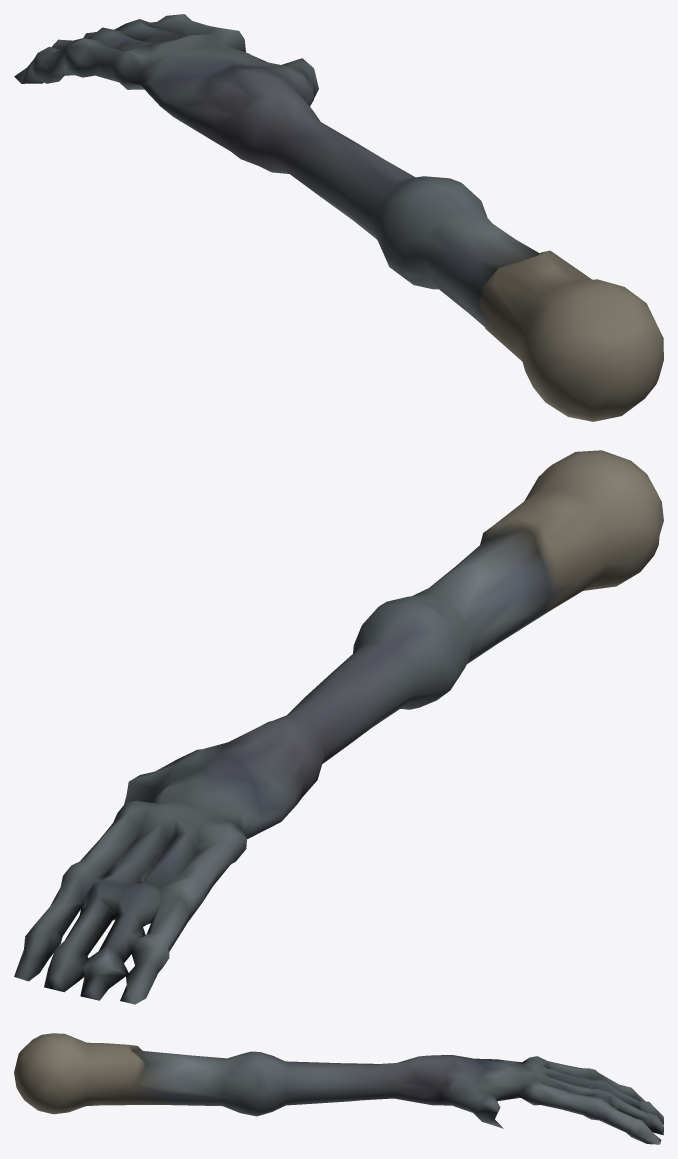
Rendered from bed_arm.glb.
The picture shows the model from 3 angles, top to bottom: view 1: azimuth 30°, elevation 25°; view 2: azimuth 150°, elevation 25°; view 3: azimuth 270°, elevation 25°; orthographic projection. The views are drawn at different scales.
Parts seen in each view (by area): view 1: bed_arm; view 2: bed_arm; view 3: bed_arm.
Boxes of the visible parts, <box> form: bed_arm: <box>14,14,663,421</box>; bed_arm: <box>14,450,663,1004</box>; bed_arm: <box>14,1033,663,1144</box>.
Bounding box in the file's own units: 0.1404 × 0.134 × 0.875.
